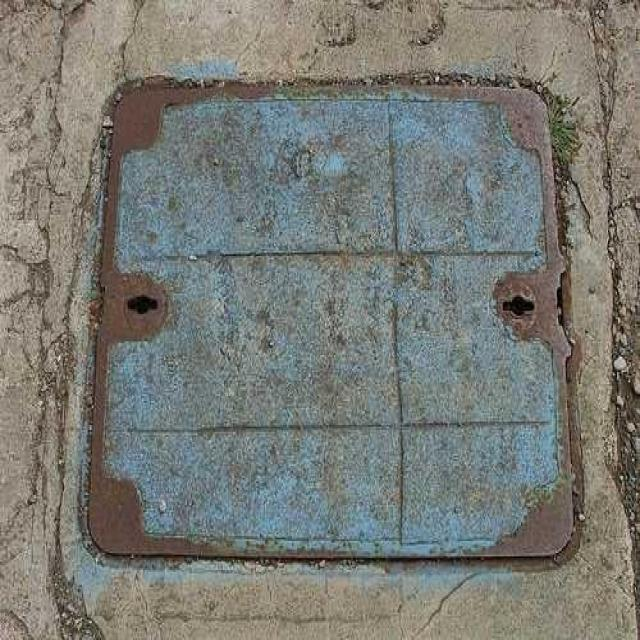manhole: (79, 73, 585, 573)
